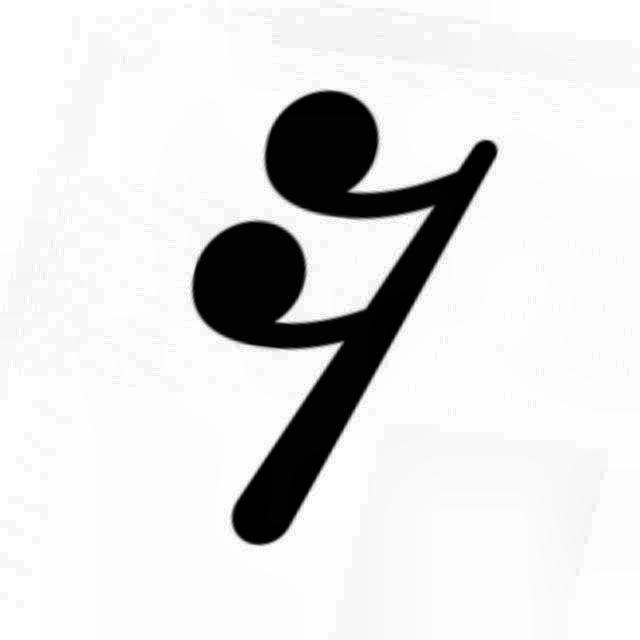Eighth-rest: (142, 85, 530, 561)
